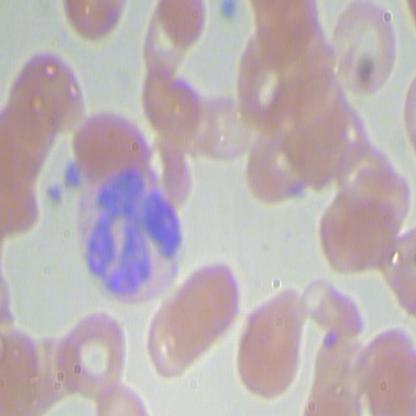Platelets: (42, 176, 70, 208), (58, 159, 85, 192), (216, 1, 242, 26)
RBC: (229, 283, 309, 401), (322, 1, 403, 99), (313, 193, 401, 283), (51, 309, 131, 398), (164, 258, 241, 349), (70, 105, 153, 187), (10, 51, 93, 133), (242, 123, 318, 204), (355, 319, 415, 415), (189, 90, 262, 168), (137, 66, 210, 144), (135, 303, 207, 381), (327, 139, 402, 213), (292, 276, 367, 341)
WBC: (76, 165, 188, 312)
